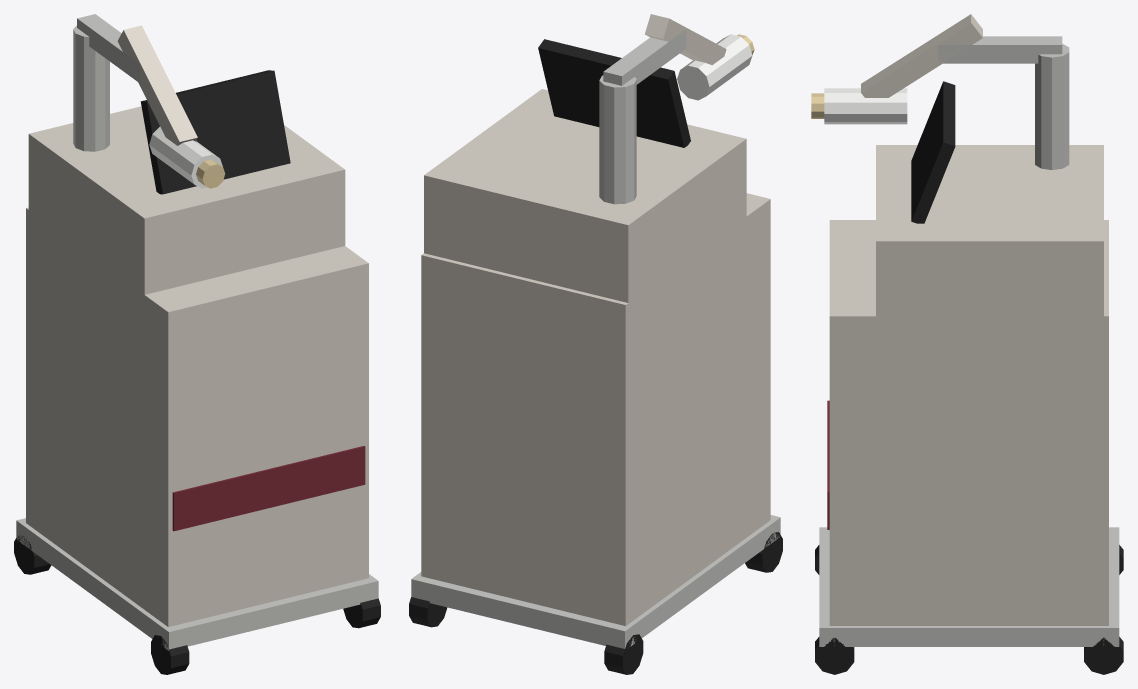
Rendered from lavieen.glb.
The picture shows the model from 3 angles, left to right: view 1: azimuth 30°, elevation 25°; view 2: azimuth 150°, elevation 25°; view 3: azimuth 270°, elevation 25°; orthographic projection. The views are drawn at different scales.
Parts seen in each view (by area): view 1: lavieen; view 2: lavieen; view 3: lavieen.
Boxes of the visible parts, x1,y1,x2,y2 form: lavieen: (14, 14, 380, 674); lavieen: (409, 14, 782, 674); lavieen: (811, 14, 1123, 674).
Size of the model in its own units: 0.46 by 1.23 by 0.603.
